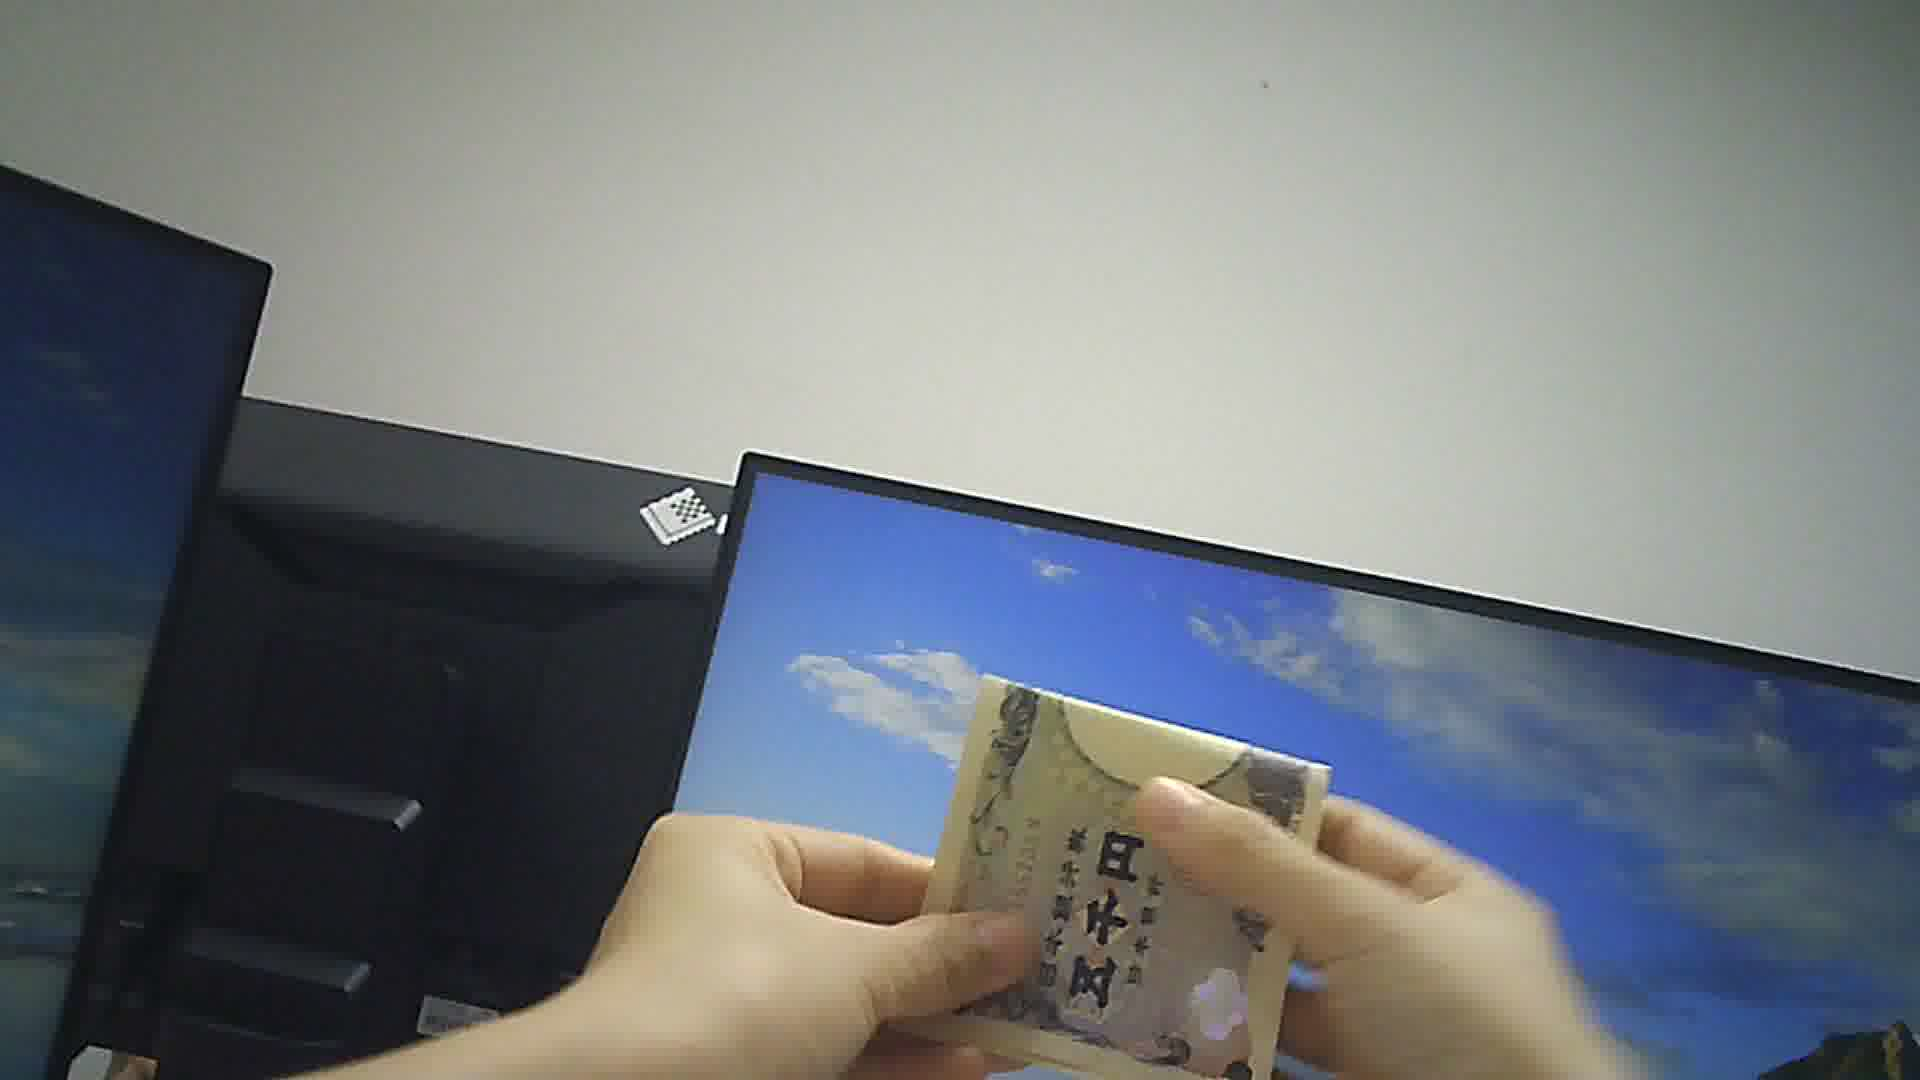5,000 Yen: (909, 669, 1327, 1079)
